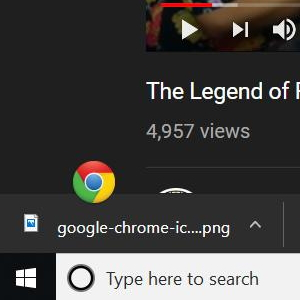chrome: (72, 160, 116, 205)
